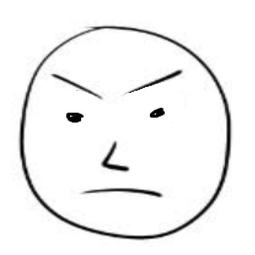frowning_eyebrow: (46, 72, 106, 102), (120, 67, 183, 95)
line_unsmiling_mouth: (79, 183, 165, 198)
pointy_nose: (96, 139, 133, 174)
small_eye: (58, 106, 89, 125), (147, 102, 168, 121)
